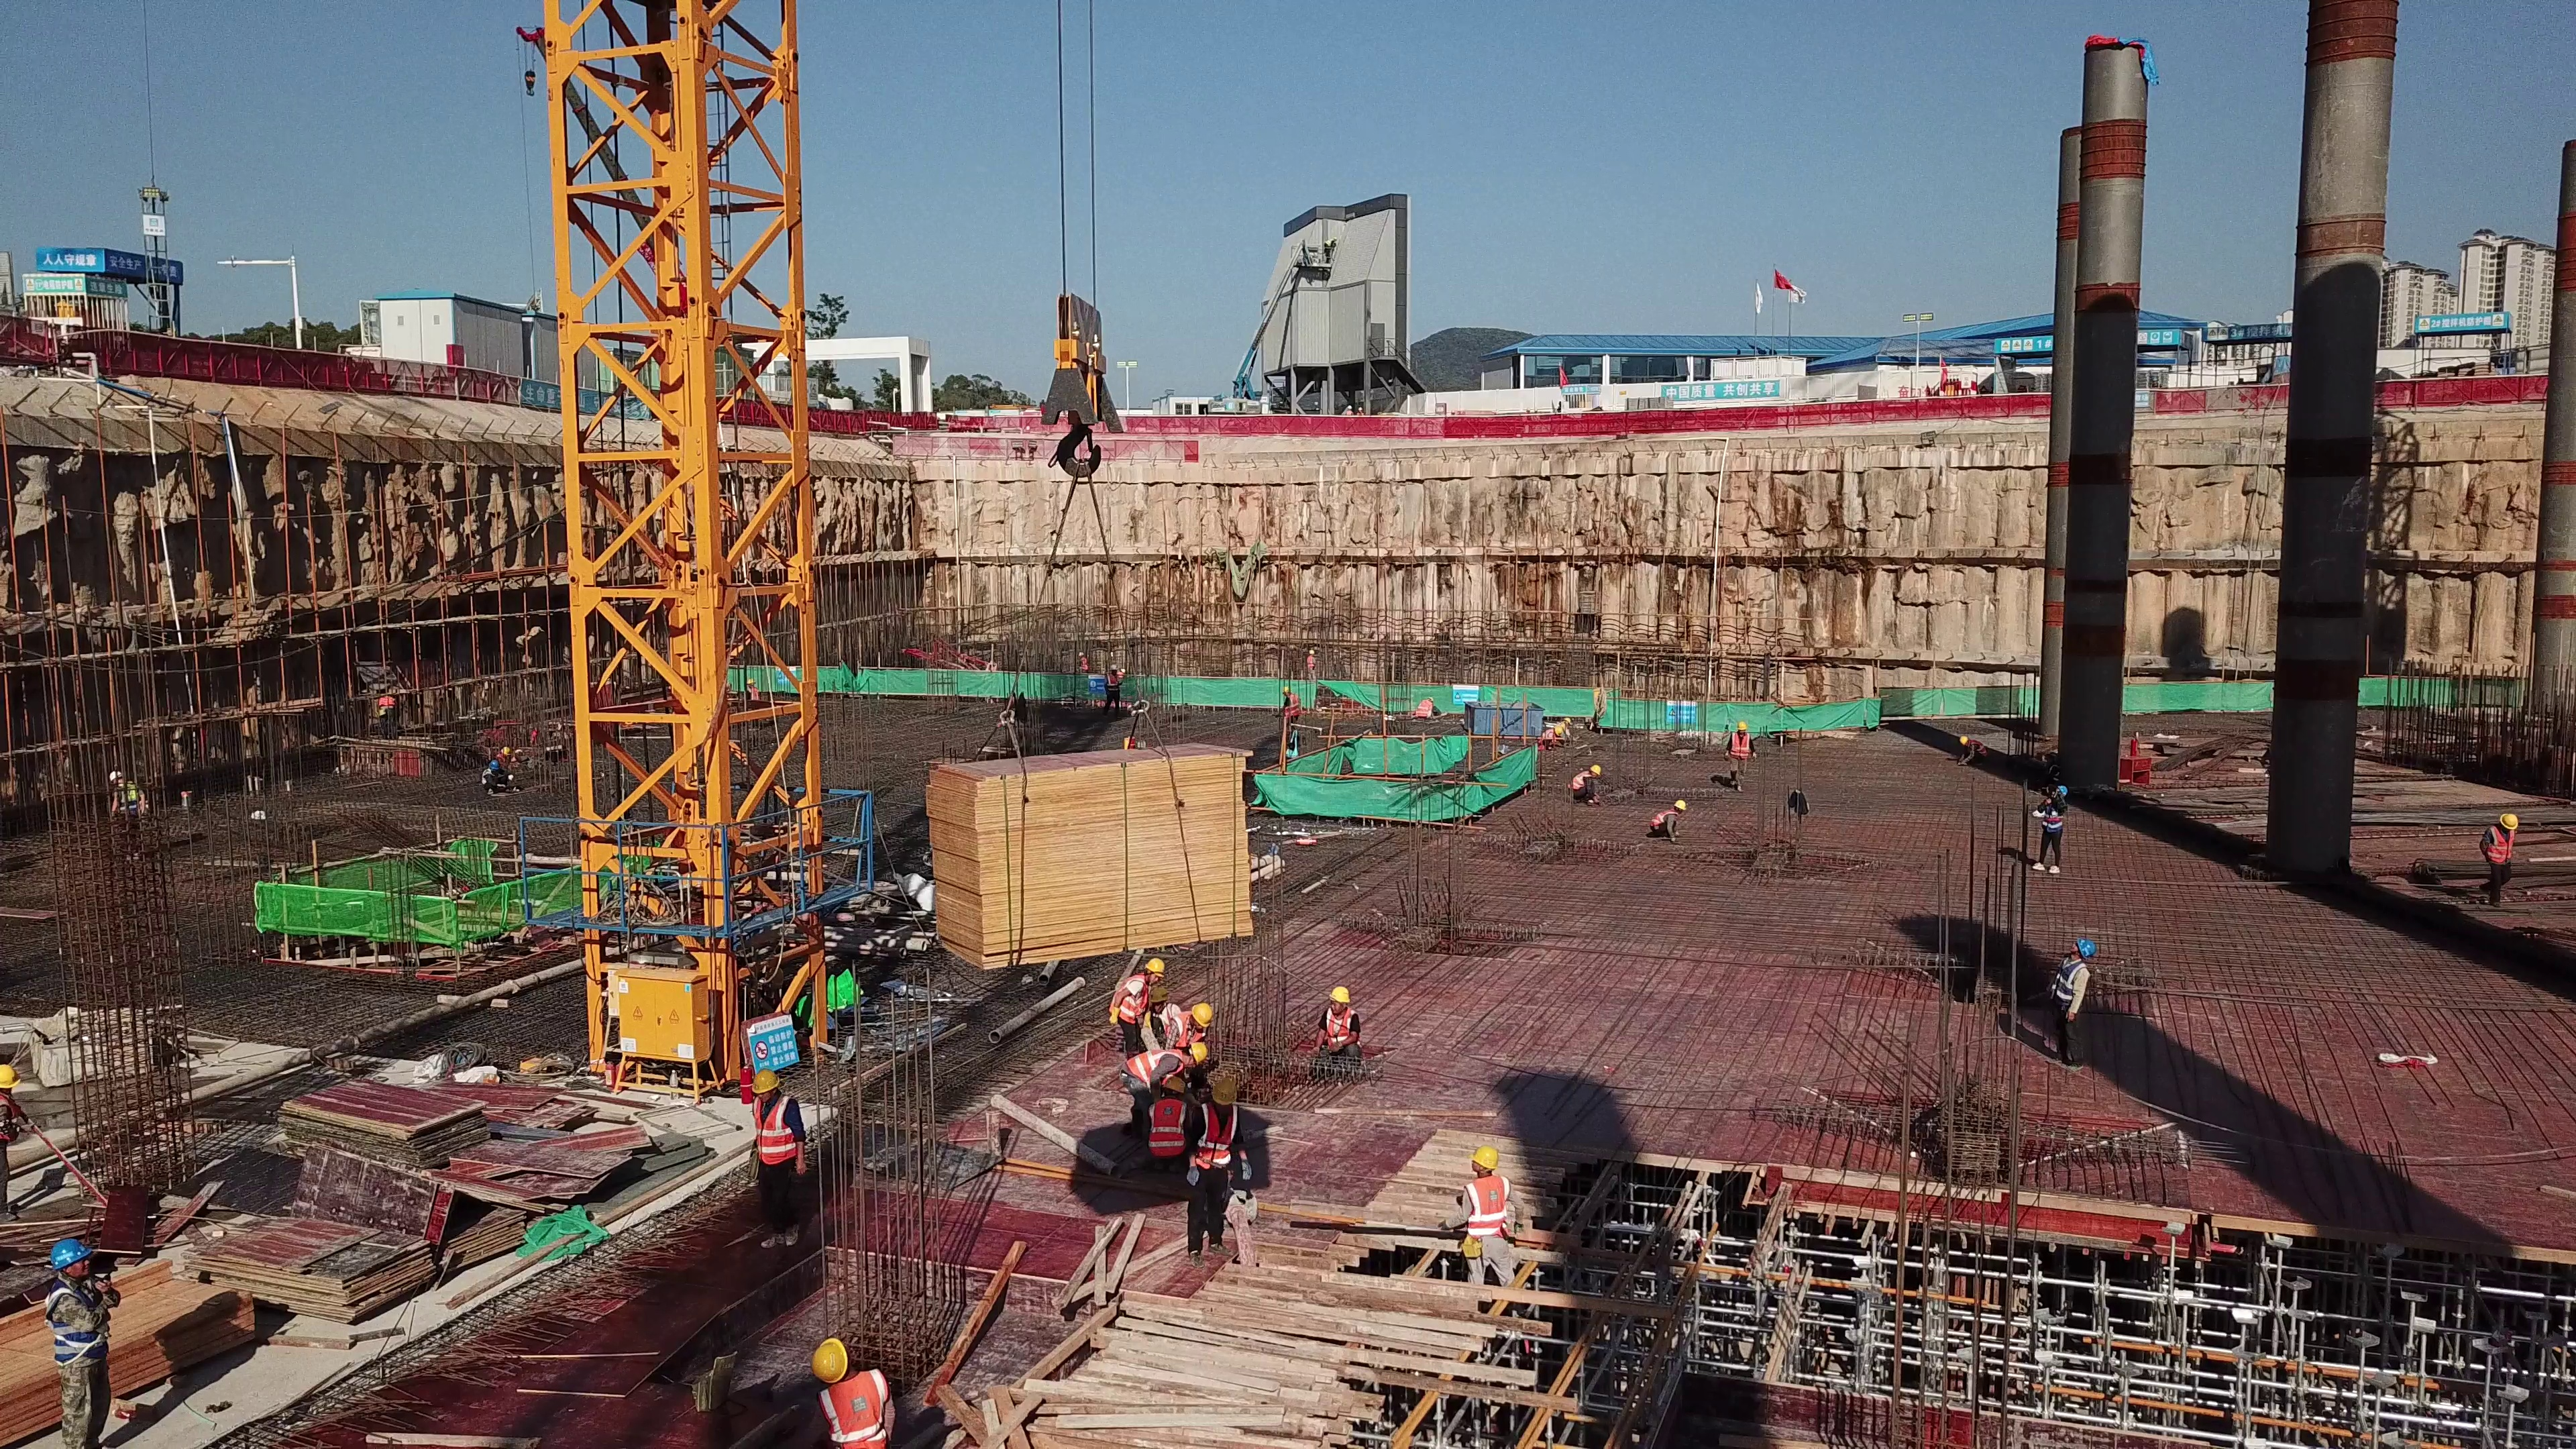board: (276, 1041, 606, 1302), (934, 741, 1258, 951)
brick: (1621, 394, 1678, 411)
ebox: (592, 963, 713, 1092)
fence: (186, 342, 506, 403), (1738, 411, 2049, 433)
helmet: (802, 1334, 847, 1372), (45, 1236, 93, 1269), (1210, 1073, 1244, 1109), (1463, 1144, 1503, 1171), (743, 1071, 785, 1099), (1164, 1074, 1187, 1099), (1194, 1041, 1218, 1063), (2081, 934, 2102, 957), (1329, 982, 1350, 1003), (1, 1065, 20, 1087), (2052, 780, 2068, 800), (2498, 814, 2514, 831), (1591, 760, 1605, 778), (107, 772, 130, 782), (1735, 717, 1748, 733), (1676, 800, 1685, 819), (1555, 724, 1565, 736), (1957, 735, 1968, 744), (1280, 684, 1292, 692), (1108, 663, 1120, 670), (1564, 717, 1572, 727), (1427, 696, 1438, 700), (1077, 650, 1085, 658)
hook: (1038, 294, 1123, 480)
hopper: (1464, 696, 1546, 747)
person: (732, 1062, 832, 1274), (36, 1243, 131, 1449), (1454, 1140, 1542, 1316), (1183, 1071, 1263, 1260), (781, 1336, 914, 1440), (1133, 1036, 1203, 1185), (2030, 924, 2099, 1073), (2465, 799, 2522, 915), (1303, 981, 1371, 1073), (102, 768, 157, 867), (2030, 780, 2076, 880), (1105, 957, 1154, 1046), (1718, 720, 1761, 807), (1144, 983, 1183, 1045), (370, 685, 405, 745), (1644, 796, 1685, 848), (1570, 761, 1612, 811), (1175, 995, 1216, 1043), (1270, 686, 1306, 741), (477, 761, 523, 799), (1409, 690, 1447, 729), (743, 676, 768, 732), (1954, 735, 1995, 770), (1102, 660, 1122, 729), (1537, 714, 1574, 746), (1295, 644, 1324, 675), (1071, 647, 1091, 674), (1353, 403, 1366, 421), (1343, 403, 1355, 419)
slogan: (517, 380, 663, 421), (109, 258, 195, 294), (37, 244, 113, 282), (1664, 378, 1781, 400), (1988, 333, 2182, 345), (2200, 321, 2294, 340), (2418, 311, 2505, 329)
vest: (822, 1372, 900, 1448), (40, 1275, 111, 1350), (1463, 1177, 1513, 1245), (754, 1100, 804, 1161), (1201, 1106, 1239, 1176), (1155, 1099, 1189, 1155), (1108, 971, 1143, 1023), (2053, 962, 2088, 1010), (113, 784, 144, 822), (1136, 1044, 1183, 1065), (2488, 829, 2513, 868), (1327, 1012, 1356, 1044), (1728, 735, 1755, 769), (2040, 802, 2065, 837), (1286, 693, 1305, 722), (1652, 810, 1675, 829), (1106, 673, 1121, 700), (375, 694, 398, 711), (1570, 773, 1591, 793), (1416, 700, 1433, 720), (1974, 738, 1987, 762), (1542, 727, 1552, 741), (1078, 657, 1089, 669)
wood: (1036, 1293, 1428, 1449)
